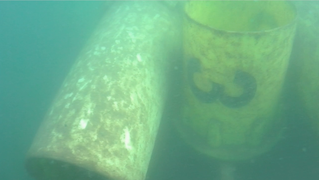3: (187, 56, 257, 109)
pipe: (23, 1, 182, 179), (171, 1, 299, 163), (291, 1, 318, 129)
